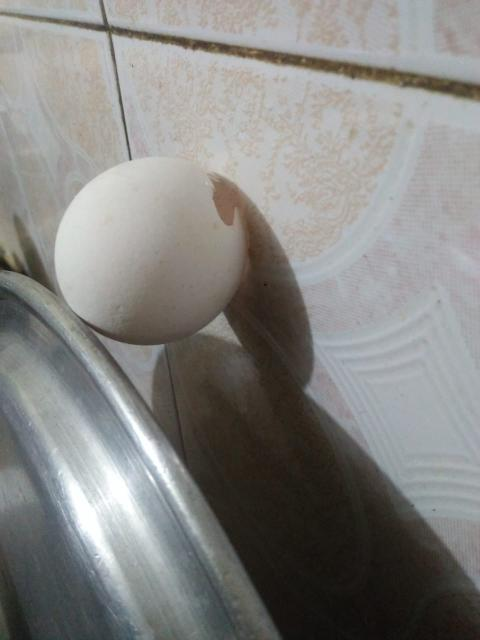Roto: (53, 154, 249, 346)
